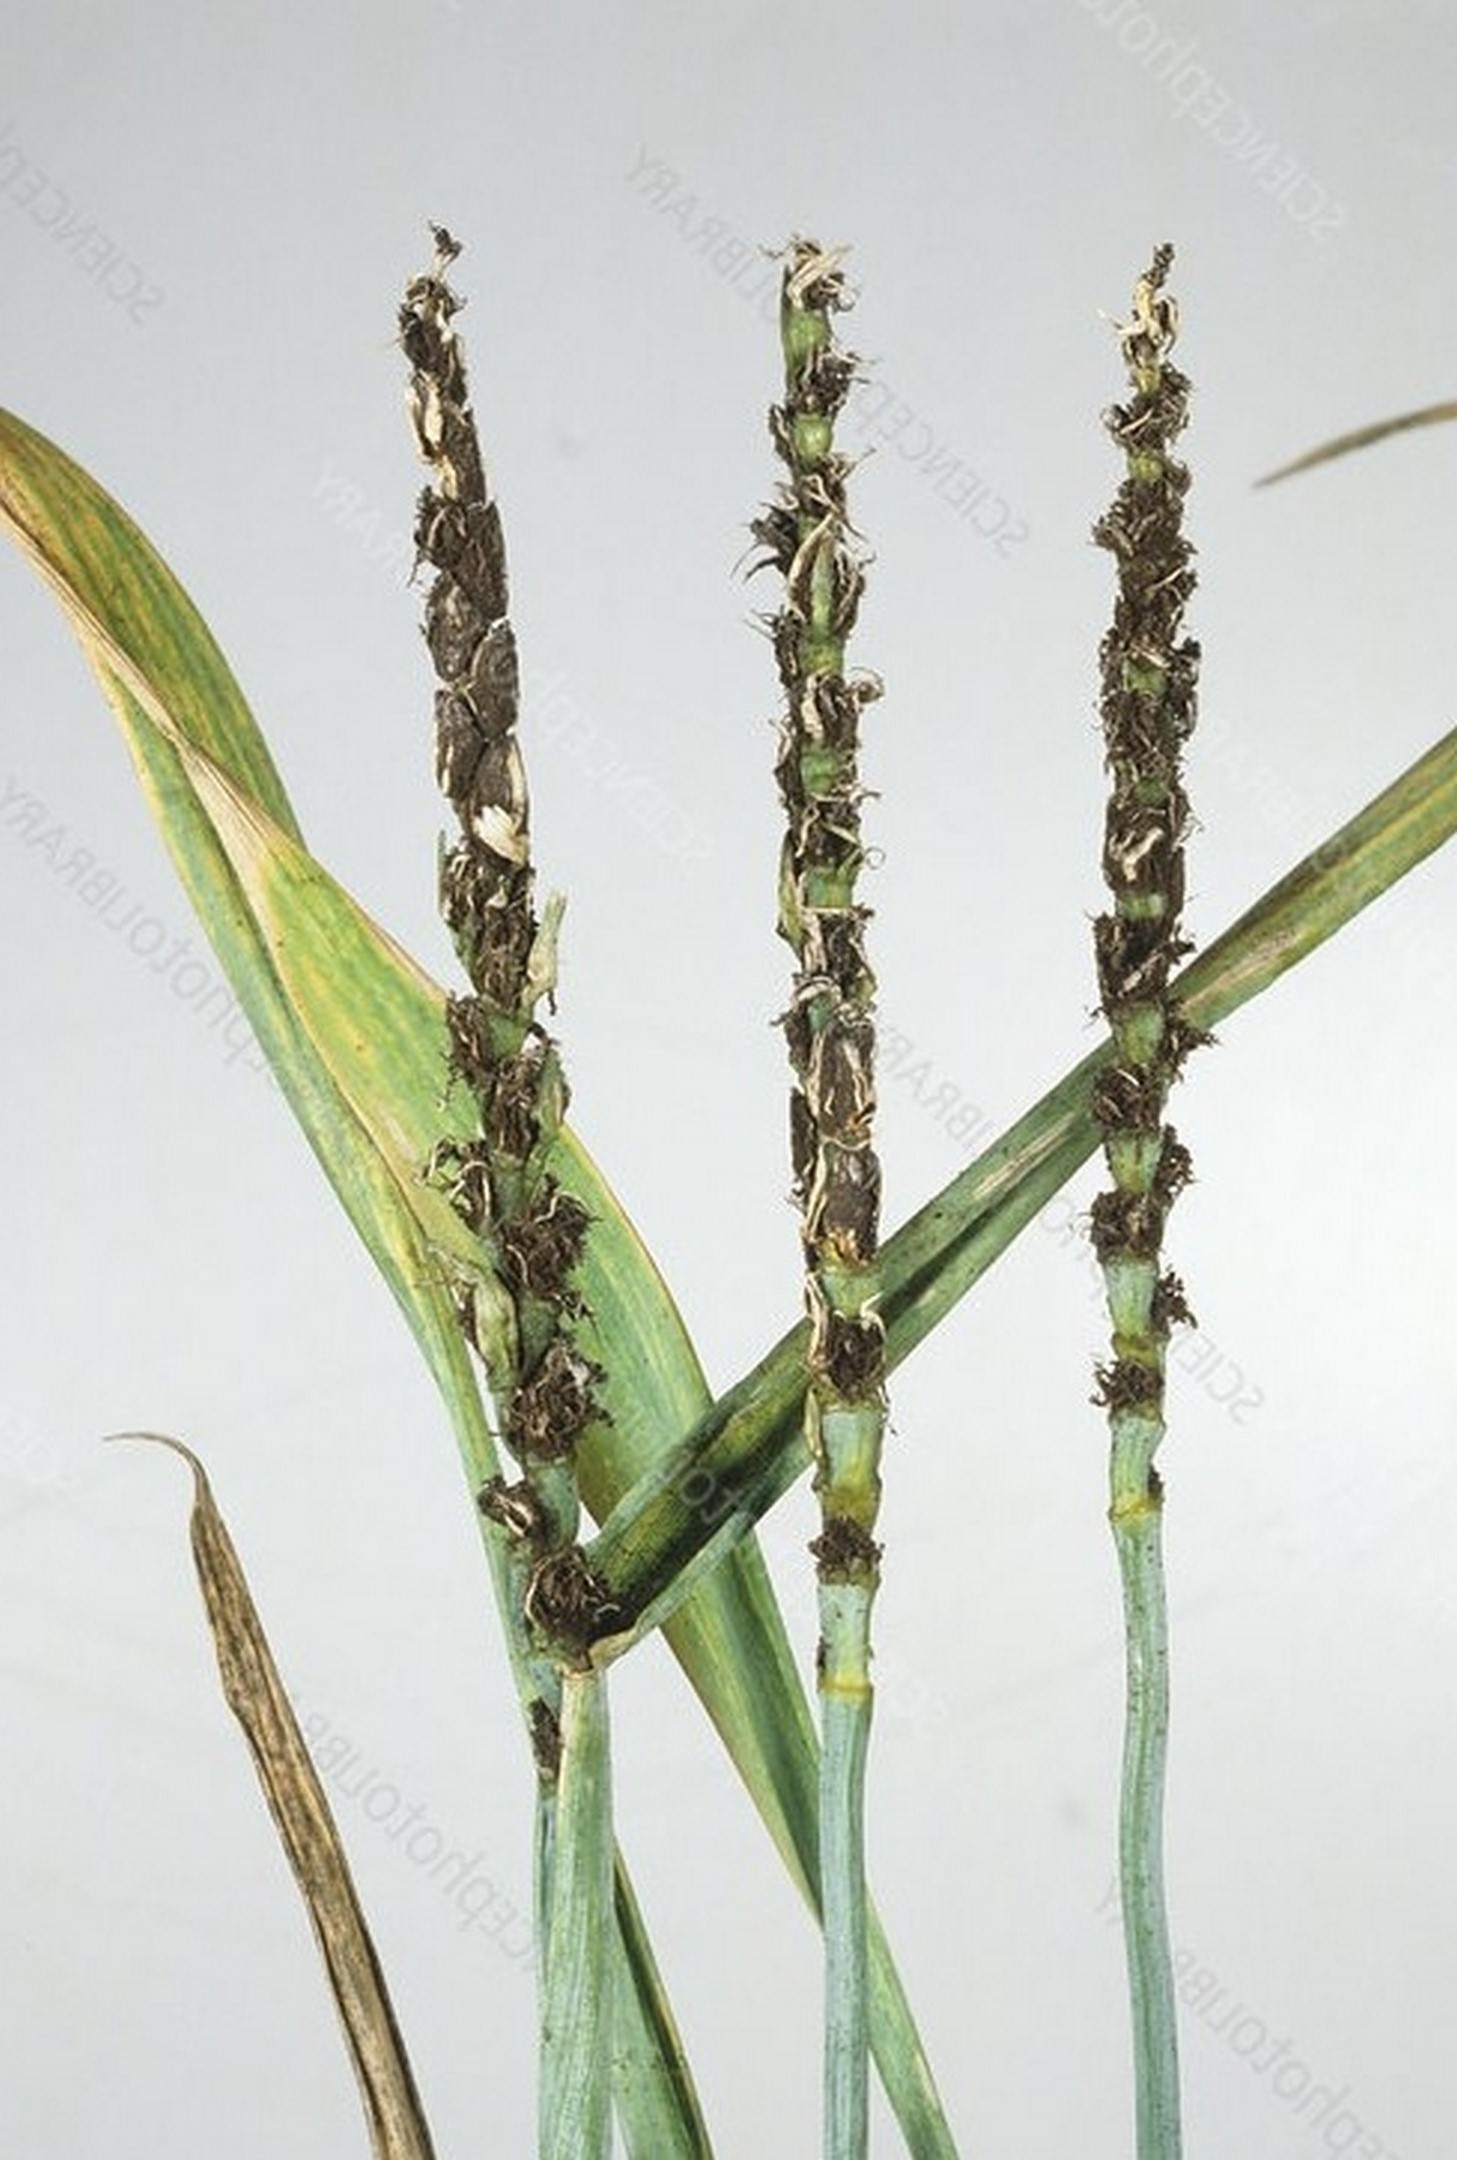Wheat Loose Smut: (715, 236, 1257, 1451), (328, 249, 634, 1477)
